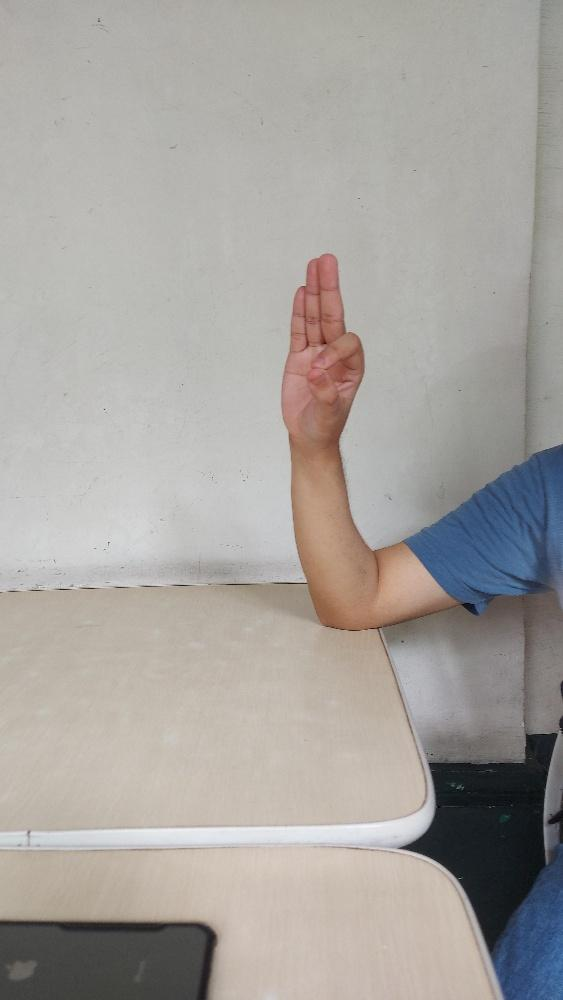f: (280, 252, 364, 447)
